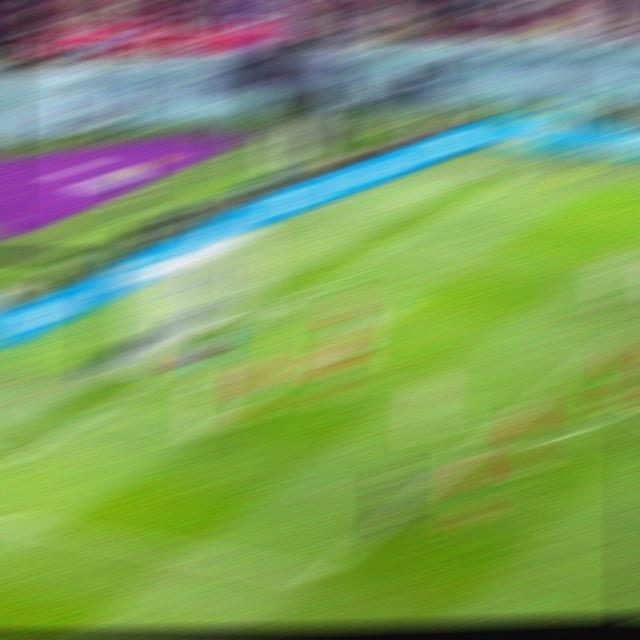bigarea_bottom_inner: (302, 565, 334, 589)
bigarea_top_outter: (390, 233, 420, 243)
bottom_arc_area_intersection: (452, 441, 492, 462)
corner: (491, 178, 527, 183)
smallarea_bottom_outter: (84, 403, 118, 418)
smallarea_top_inner: (386, 298, 419, 315)
smallarea_top_outter: (291, 291, 321, 298)
top_arc_area_intersection: (592, 337, 620, 356)
